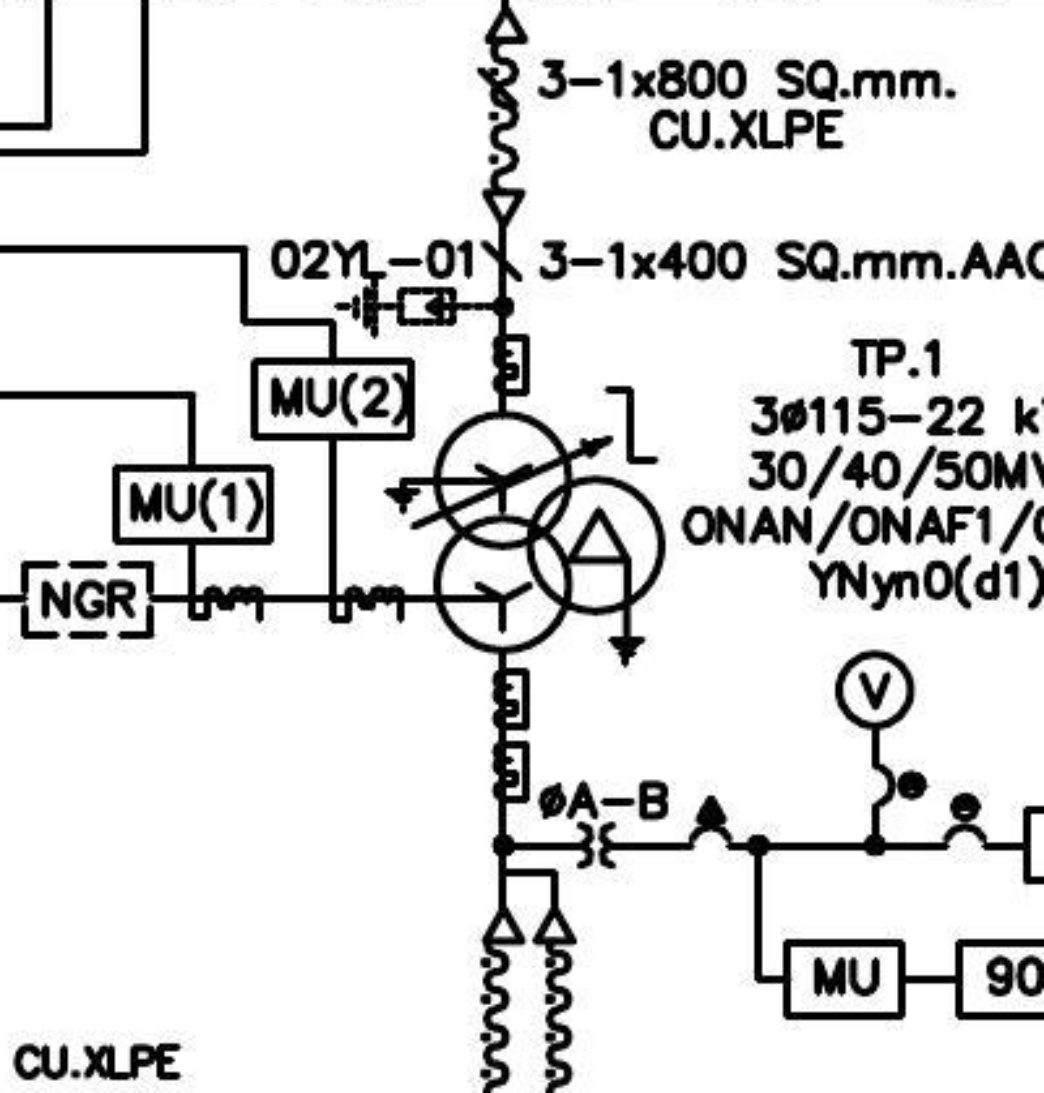11522_tx_ynyn0d1: (430, 408, 669, 657)
MU: (251, 356, 416, 442), (111, 463, 275, 546), (781, 937, 908, 1023)
terminator_double: (480, 867, 580, 947)
terminator_single: (482, 2, 531, 46), (479, 186, 528, 230)
v_m: (832, 647, 918, 732)
